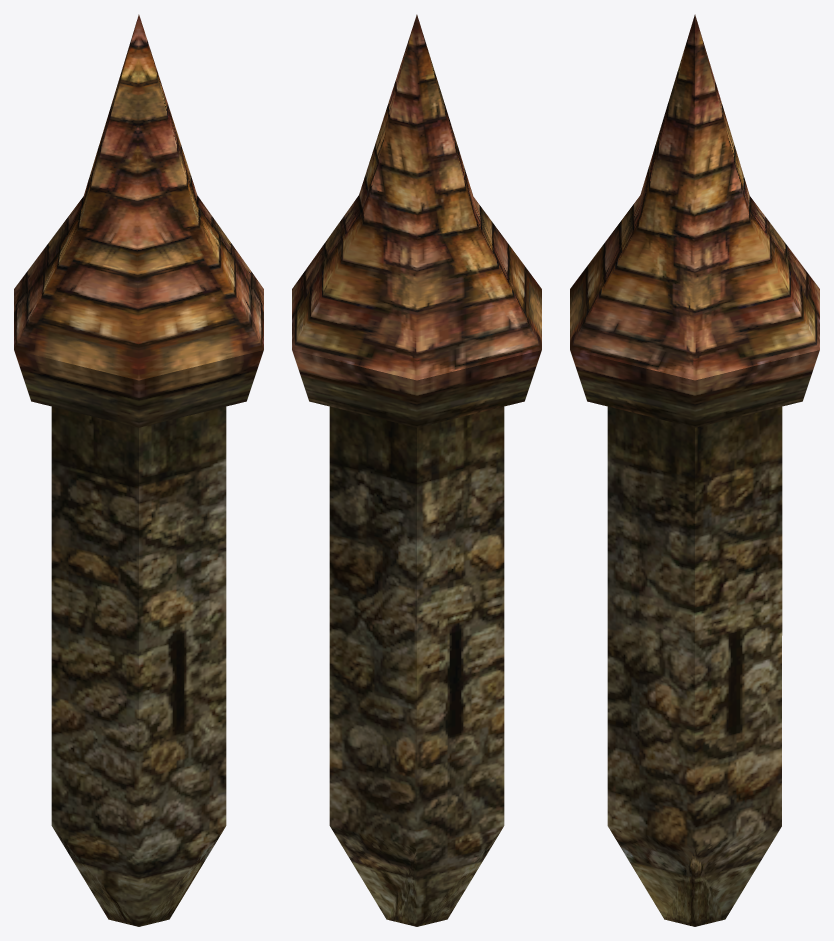
The model's file is hrz85.glb.
The picture shows the model from 3 angles, left to right: view 1: azimuth 30°, elevation 25°; view 2: azimuth 150°, elevation 25°; view 3: azimuth 270°, elevation 25°; orthographic projection.
Visible parts, largest first — view 1: hrz85-col; view 2: hrz85-col; view 3: hrz85-col.
Boxes of the visible parts, x1=… form: hrz85-col: x1=14, y1=14, x2=263, y2=926; hrz85-col: x1=292, y1=14, x2=541, y2=926; hrz85-col: x1=570, y1=14, x2=819, y2=926.
Size of the model in its own units: 2.44 by 8.36 by 2.11.
4 materials, 4 textured.
